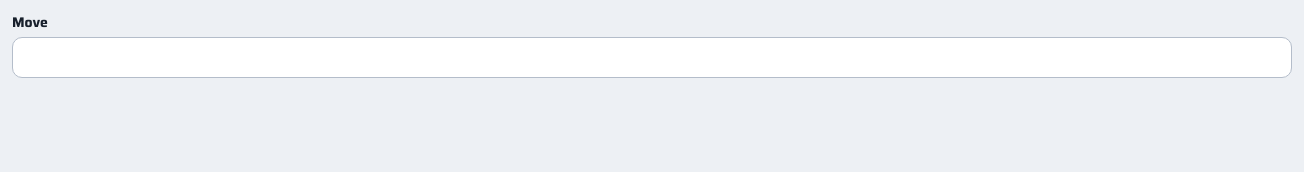
Test: SearchSelect › says when nothing matches and closes with Escape
Type "zzz" into the dropdown labelled "Move" at [652, 57], box x1=12 y1=37 x2=1292 y2=78
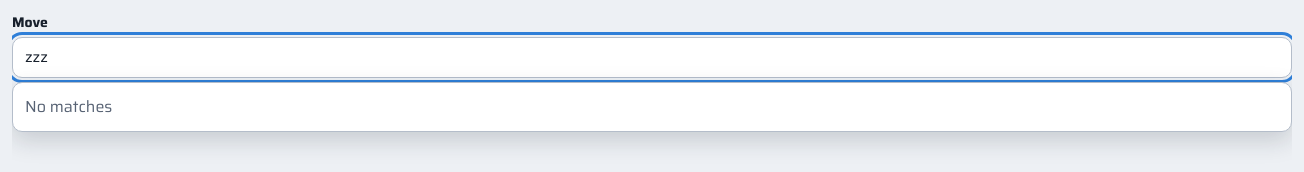
Result: the list item "No matches" is shown at x1=25 y1=94 x2=112 y2=118
Press Escape in the dropdown labelled "Move", box x1=12 y1=37 x2=1292 y2=78
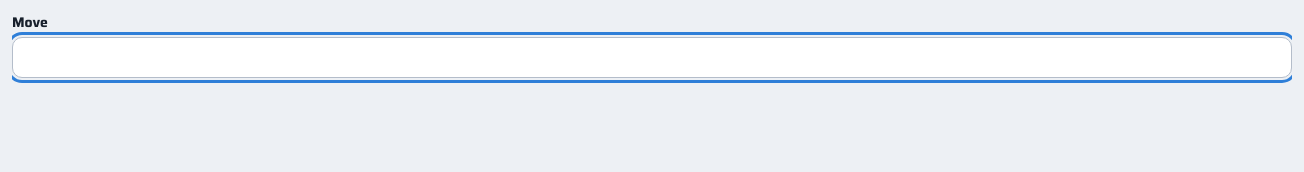
Result: the list is gone
